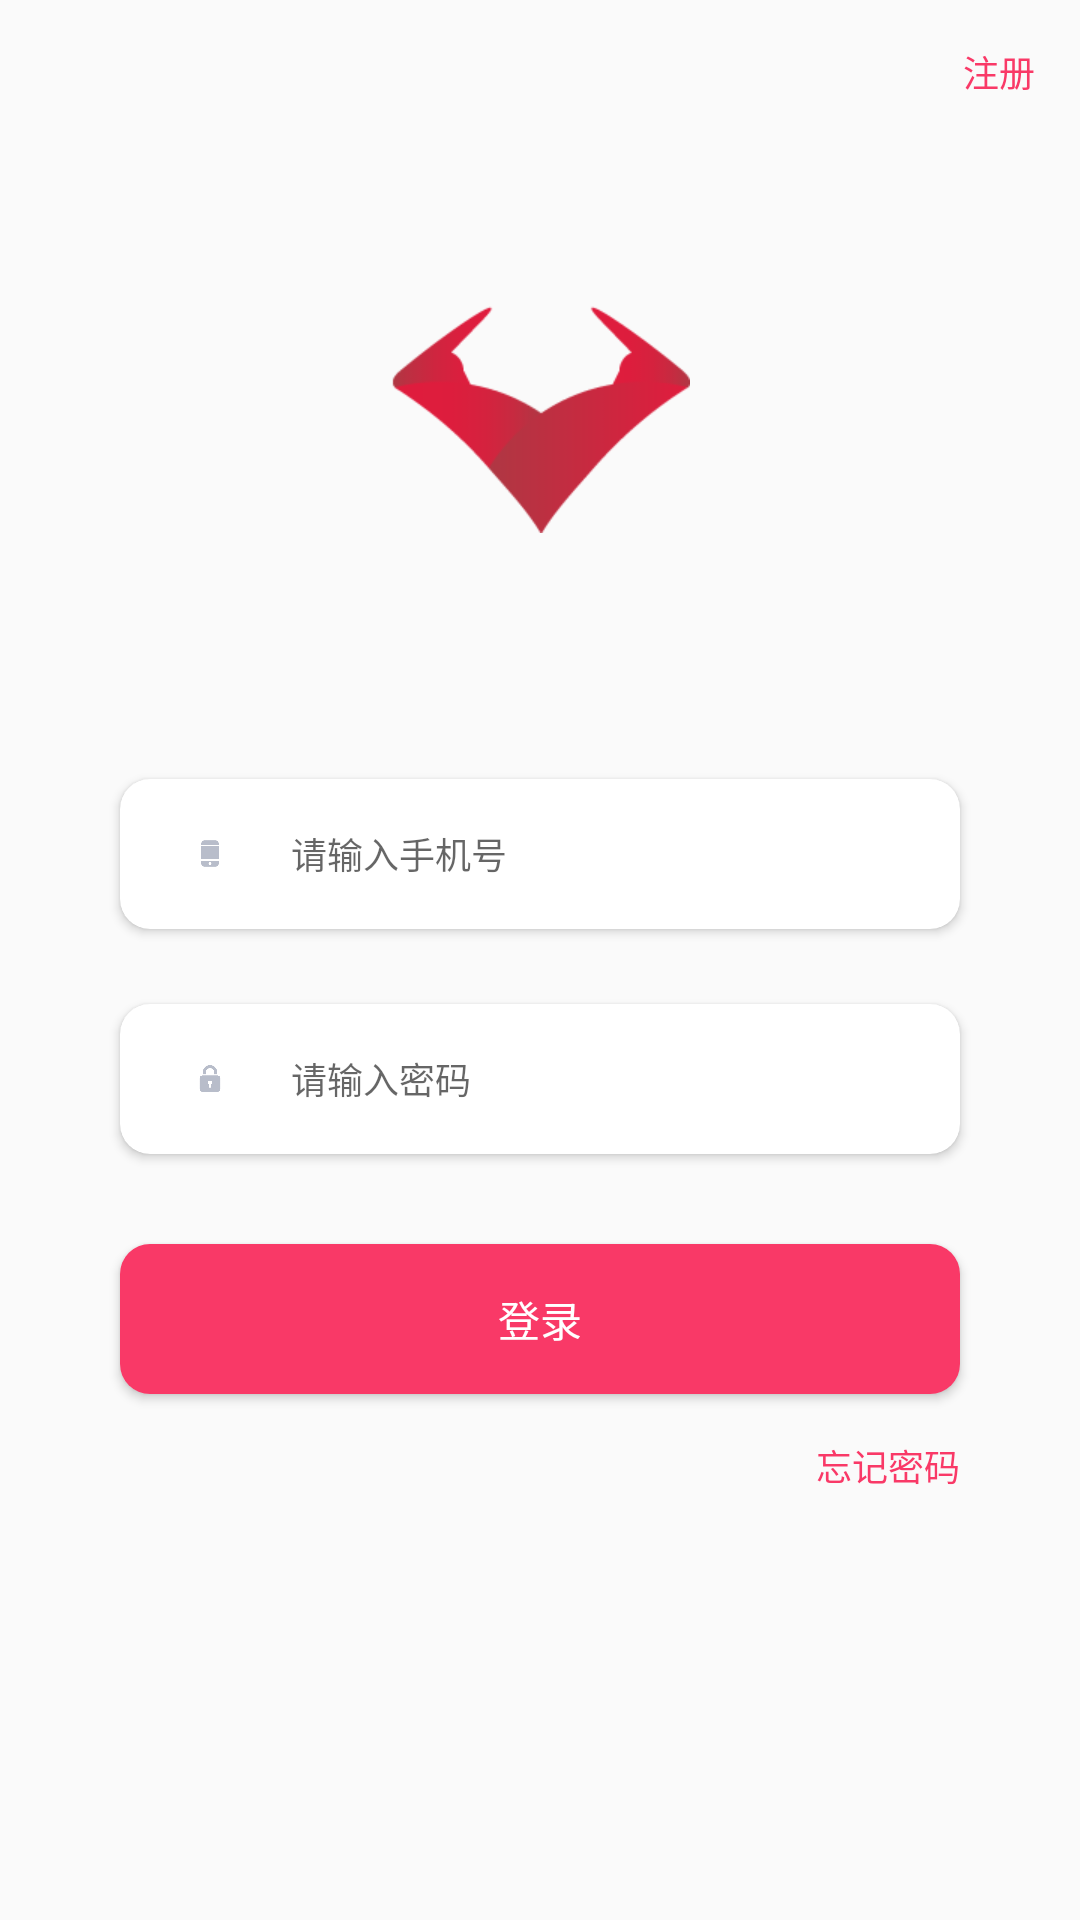

Named icons in this screenshot (1080x1920) and their centers, (x=x, y=y):
lock: (x=210, y=1078)
phone: (x=210, y=853)
